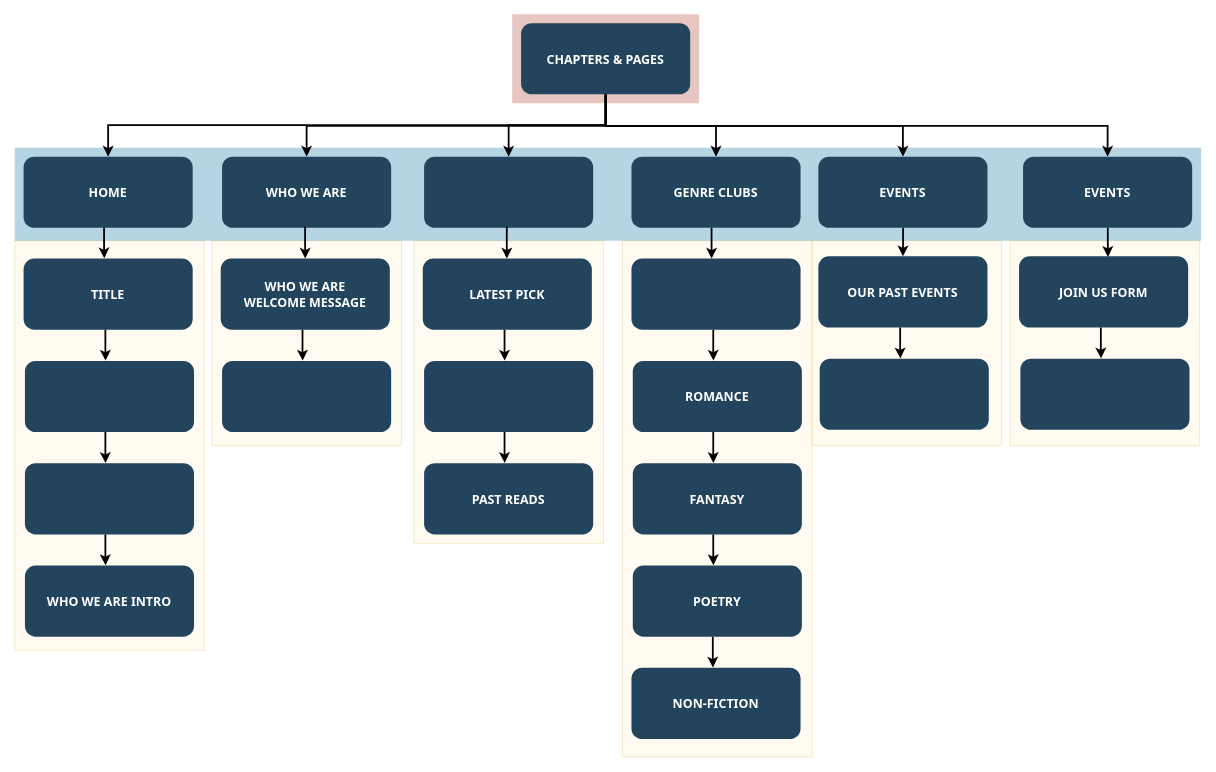
Some shapes in this 1216 by 772 pixel diagram are drawn without their labels. The centre of each missing label's shape, as x and y in pixels:
"FAQS" goes at [1104,393].
"GENRE CLUBS INTRO" goes at [109,498].
"JOIN US NOW CALL TO ACTION" goes at [306,396].
"THRILLER" goes at [715,293].
"TOP 3 PICKS" goes at [508,396].
"TOP PICKS" goes at [508,191].
"TOP PICKS INTRO" goes at [109,396].
"UPCOMING EVENTS" goes at [903,393].
